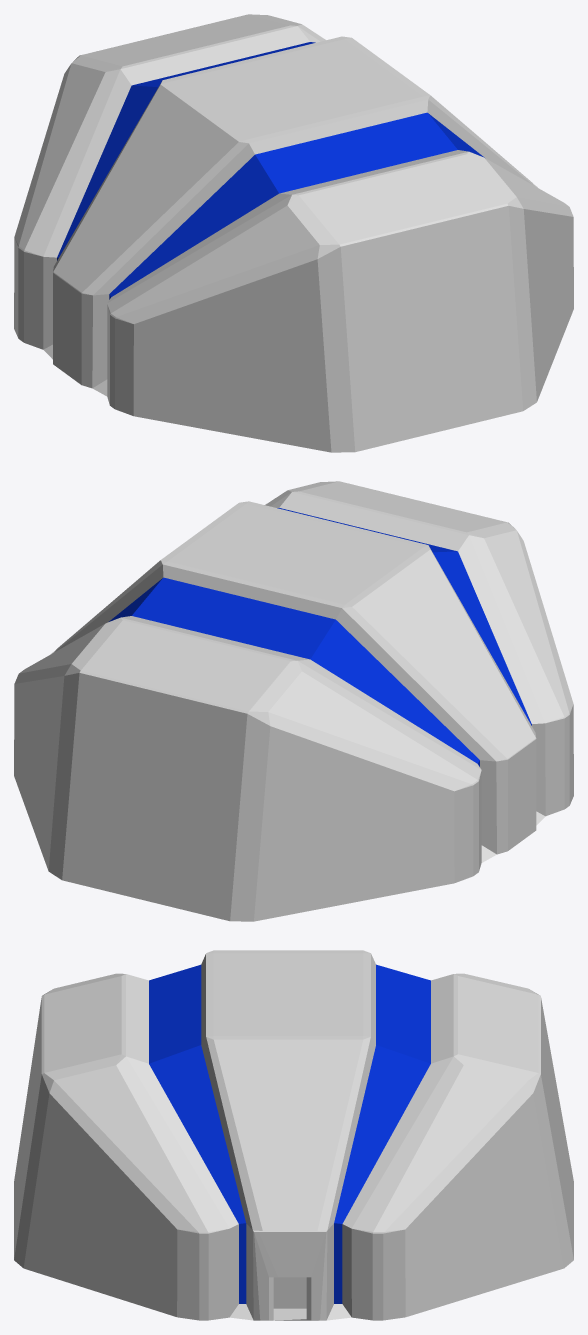
The model's file is House2(Updated).fbx.
3 renders of one model, top to bottom at view 1: azimuth 30°, elevation 25°; view 2: azimuth 150°, elevation 25°; view 3: azimuth 270°, elevation 25°, orthographic. The views are drawn at different scales.
Visible parts, largest first — view 1: Cube; view 2: Cube; view 3: Cube.
Part boxes in pixels (x1,y1,x2,y2): Cube: [14, 14, 573, 452]; Cube: [14, 481, 573, 921]; Cube: [14, 950, 573, 1320].
Bounding box in the file's own units: 9.93 × 4.96 × 11.09.
